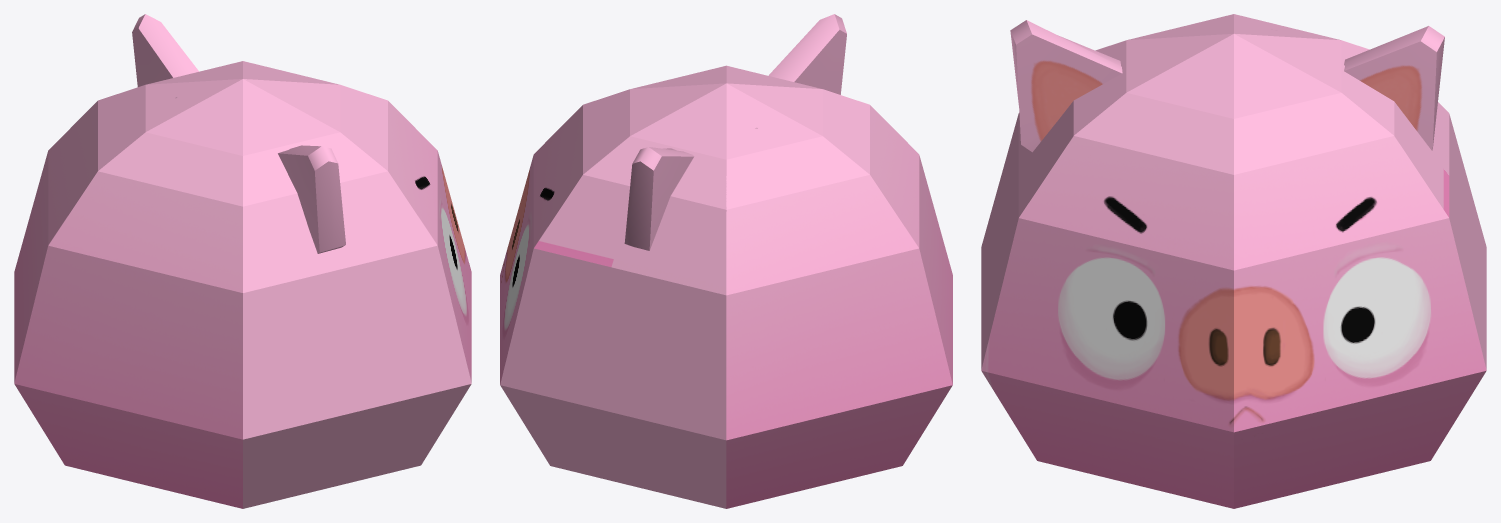
The model's file is MON_PIG.fbx.
The picture shows the model from 3 angles, left to right: view 1: azimuth 30°, elevation 25°; view 2: azimuth 150°, elevation 25°; view 3: azimuth 270°, elevation 25°; orthographic projection. The views are drawn at different scales.
Parts seen in each view (by area): view 1: pCube10; view 2: pCube10; view 3: pCube10.
Boxes of the visible parts, x1=… form: pCube10: x1=14, y1=14, x2=471, y2=508; pCube10: x1=500, y1=14, x2=952, y2=508; pCube10: x1=981, y1=14, x2=1486, y2=508.
Bounding box in the file's own units: 2.35 × 1.85 × 2.03.
1 material, 1 textured.
